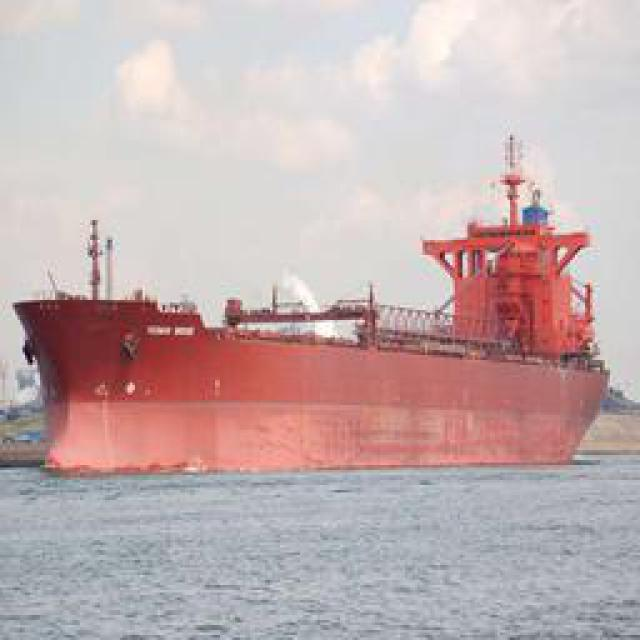Ship: (23, 153, 618, 468)
